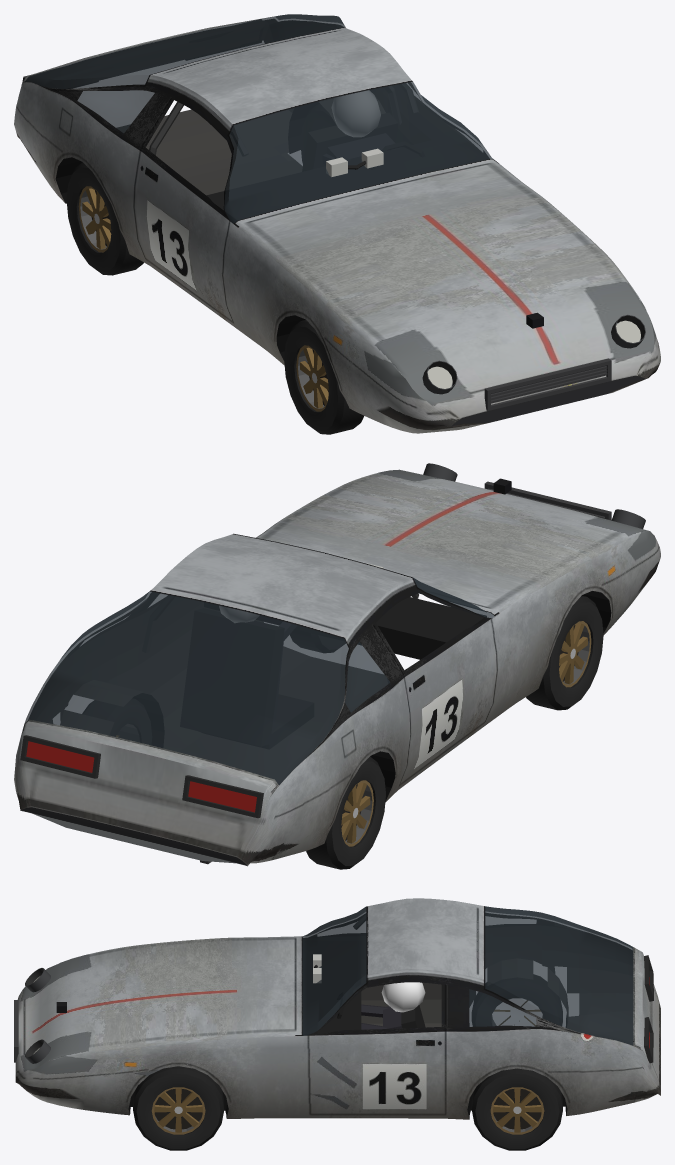
The picture shows the model from 3 angles, top to bottom: view 1: azimuth 30°, elevation 25°; view 2: azimuth 150°, elevation 25°; view 3: azimuth 270°, elevation 25°; orthographic projection. The views are drawn at different scales.
Parts seen in each view (by area): view 1: body, wheel_fr, wheel_rr, wheel_rl; view 2: body, wheel_fr, wheel_rr, wheel_rl, wheel_fl; view 3: body, wheel_fl, wheel_rl, wheel_rr.
Boxes of the visible parts, bbox=[...] form: body: bbox=[14, 14, 660, 433]; wheel_fr: bbox=[284, 320, 363, 434]; wheel_rr: bbox=[66, 162, 143, 275]; wheel_rl: bbox=[300, 104, 335, 162]; body: bbox=[14, 463, 660, 866]; wheel_fr: bbox=[526, 595, 603, 710]; wheel_rr: bbox=[306, 756, 385, 869]; wheel_rl: bbox=[82, 698, 151, 744]; wheel_fl: bbox=[290, 629, 345, 652]; body: bbox=[14, 898, 660, 1119]; wheel_fl: bbox=[133, 1066, 224, 1150]; wheel_rl: bbox=[471, 1068, 562, 1150]; wheel_rr: bbox=[472, 974, 562, 1026].
Size of the model in its own units: 1.78 by 1.29 by 4.43.
2 materials, 1 textured.
